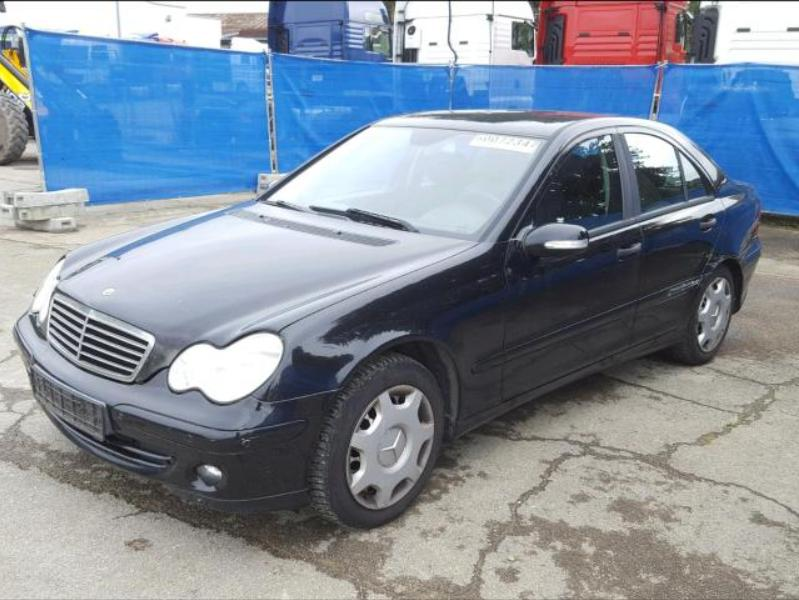Back-door: (617, 126, 724, 344)
Back-wheel: (670, 269, 735, 366)
Back-window: (626, 133, 712, 215)
Fender: (249, 239, 512, 425)
Front-bumper: (12, 310, 330, 510)
Front-door: (503, 125, 644, 401)
Front-wheel: (311, 350, 448, 534)
Front-window: (515, 137, 625, 241)
Grille: (43, 291, 155, 386)
Headlight: (168, 330, 284, 406), (28, 255, 62, 329)
Hood: (56, 197, 477, 386)
License-plate: (32, 366, 108, 445)
Mirror: (515, 217, 590, 271)
Quarter-panel: (691, 175, 762, 323)
Rocker-panel: (452, 320, 698, 447)
Roof: (374, 108, 680, 147)
Windshield: (266, 125, 544, 241)
